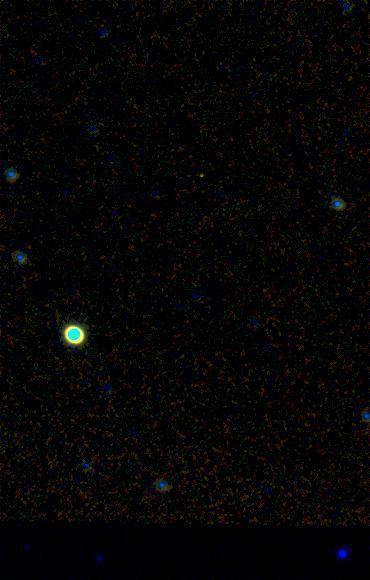star: (184, 161, 214, 191)
